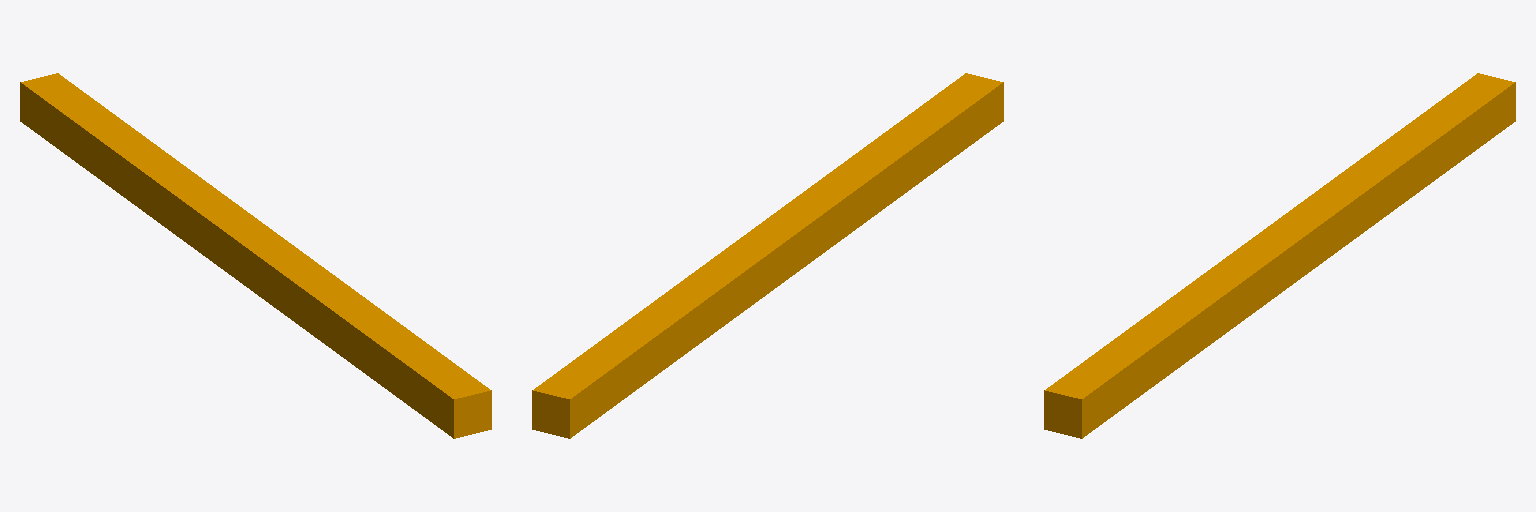
robot.urdf — eix_Y:
<robot name="eix_Y">
  <link name="eix_Y">
    <inertial>
      <origin xyz="0 0 0" /> 
      <mass value="0.1" />
      <inertia  ixx="1.0" ixy="0.0"  ixz="0.0"  iyy="1.0"  iyz="0.0"  izz="1.0" />
    </inertial>
    <visual>
      <origin xyz="0 0.1 -0.9" rpy="3.1416 3.1416 0"/>
      <geometry>
        <box size="0.01 0.2 0.01" />

      </geometry>
    </visual>
    <collision>
      <origin xyz="0 0.1 -0.9" rpy="3.1416 3.1416 0"/>
      <geometry>
        <box size="0.01 0.2 0.01" />
      </geometry>
    </collision>
  </link>
  <gazebo reference="eix_Y">
    <material>Gazebo/Green</material>
    <turnGravityOff>true</turnGravityOff>
    <static>true</static>
  </gazebo>
</robot>

--- Facts derived from the render (not from the file) ---
3 views of the same robot in one strip: view 1: azimuth 30°, elevation 25°; view 2: azimuth 150°, elevation 25°; view 3: azimuth 330°, elevation 25° (orthographic).
Robot: eix_Y — 1 links, 0 joints (none); root link eix_Y; default pose: every joint at zero.
Visible links, largest first — view 1: eix_Y; view 2: eix_Y; view 3: eix_Y.
Boxes of the visible links, bbox=[...] form: eix_Y: bbox=[20, 73, 491, 438]; eix_Y: bbox=[532, 73, 1003, 438]; eix_Y: bbox=[1044, 73, 1515, 438].
Bounding box of the posed robot: 0.01 × 0.2 × 0.01 m (x, y, z).
Geometry: primitives only (box / cylinder / sphere), no mesh files.